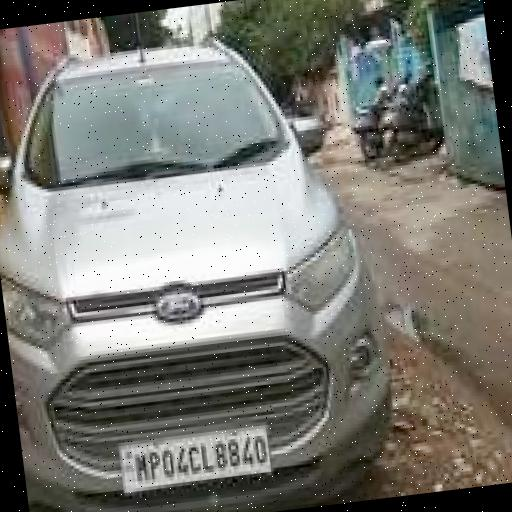license_plate`: (114, 419, 268, 490)
